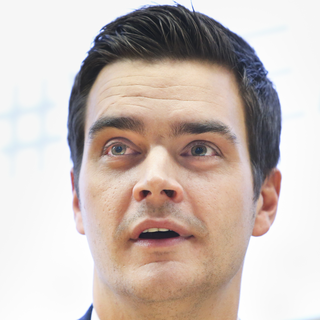eye: (172, 136, 228, 167), (94, 132, 142, 166)
